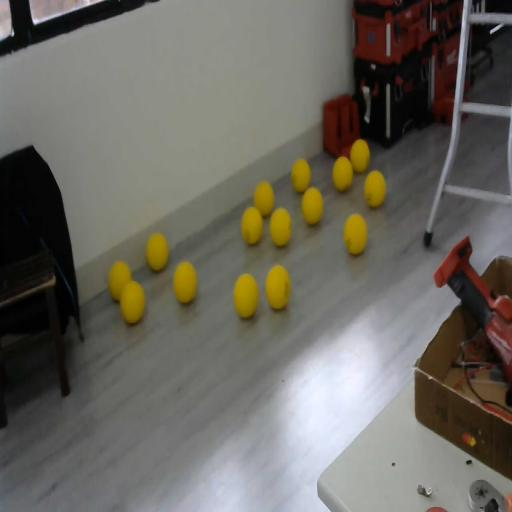FUEL: (232, 272, 260, 320), (118, 279, 146, 325), (172, 260, 198, 305), (266, 265, 290, 310), (343, 212, 368, 255), (240, 205, 264, 246), (145, 231, 169, 272), (269, 206, 292, 248), (300, 186, 324, 226), (364, 168, 386, 208), (253, 179, 275, 218), (332, 154, 354, 192), (350, 137, 370, 174), (291, 158, 311, 193)
